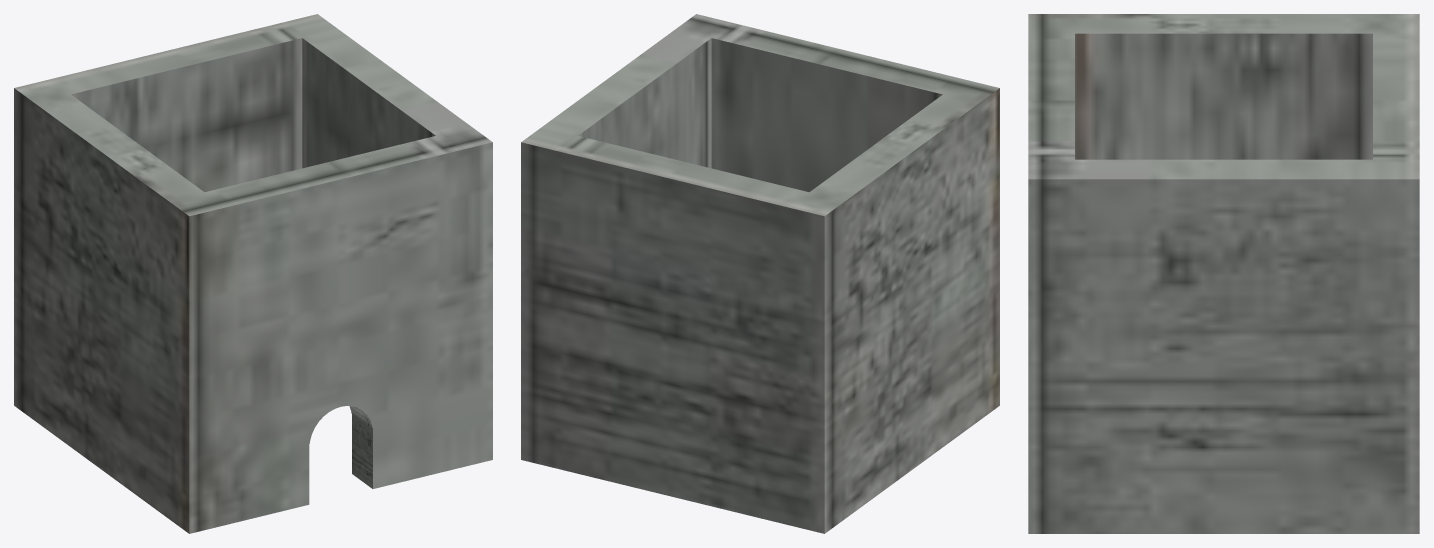
Rendered from factory.fbx.
3 views of the same model, side by side, from view 1: azimuth 30°, elevation 25°; view 2: azimuth 150°, elevation 25°; view 3: azimuth 270°, elevation 25° (orthographic). The views are drawn at different scales.
Parts seen in each view (by area): view 1: Cube; view 2: Cube; view 3: Cube.
Part boxes in pixels (x1,y1,x2,y2): Cube: [14, 14, 492, 533]; Cube: [521, 14, 999, 533]; Cube: [1028, 14, 1419, 533].
Bounding box in the file's own units: 503 × 503 × 503.
